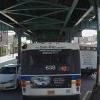Bus: (19, 39, 85, 100)
